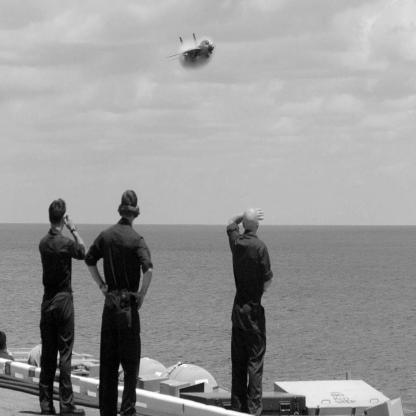F14: (167, 34, 217, 64)
